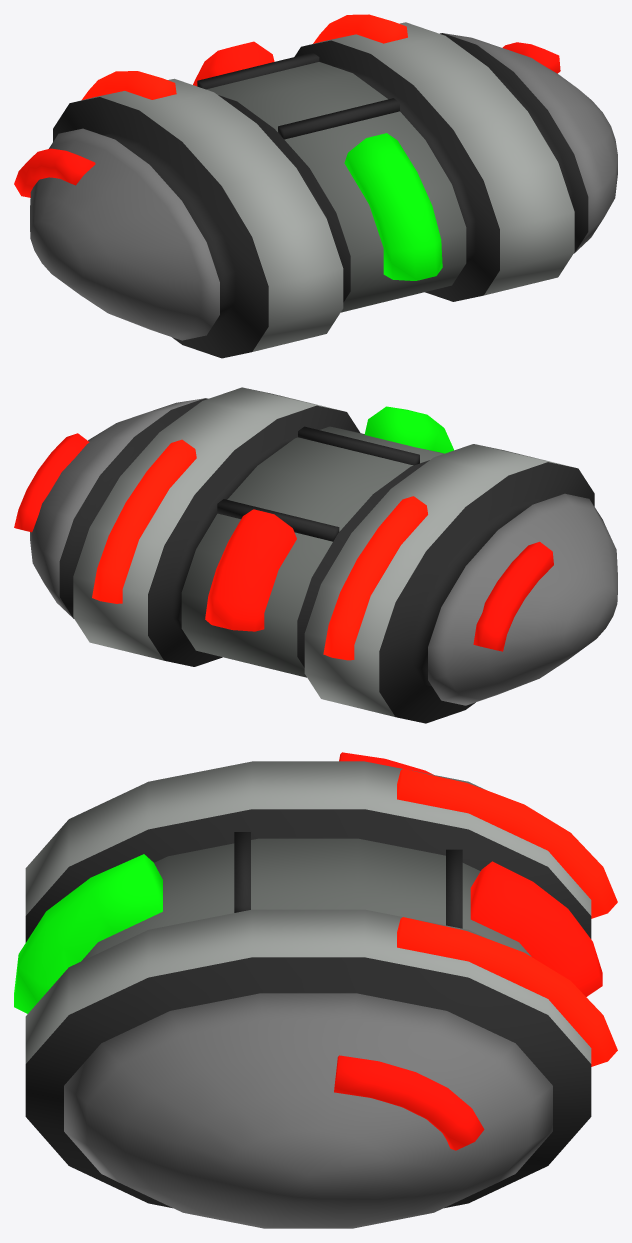
The model's file is tyrian10-165.glb.
3 views of the same model, one above another, from view 1: azimuth 30°, elevation 25°; view 2: azimuth 150°, elevation 25°; view 3: azimuth 270°, elevation 25° (orthographic). The views are drawn at different scales.
Visible parts, largest first — view 1: tyrian10-165, tyrian10-165_lights; view 2: tyrian10-165, tyrian10-165_lights; view 3: tyrian10-165, tyrian10-165_lights.
Boxes of the visible parts, x1=… form: tyrian10-165: x1=30, y1=22, x2=617, y2=358; tyrian10-165_lights: x1=14, y1=14, x2=560, y2=280; tyrian10-165: x1=30, y1=387, x2=617, y2=723; tyrian10-165_lights: x1=14, y1=406, x2=553, y2=660; tyrian10-165: x1=25, y1=761, x2=591, y2=1228; tyrian10-165_lights: x1=14, y1=752, x2=617, y2=1150.
Size of the model in its own units: 1.78 by 0.6678 by 1.29.
